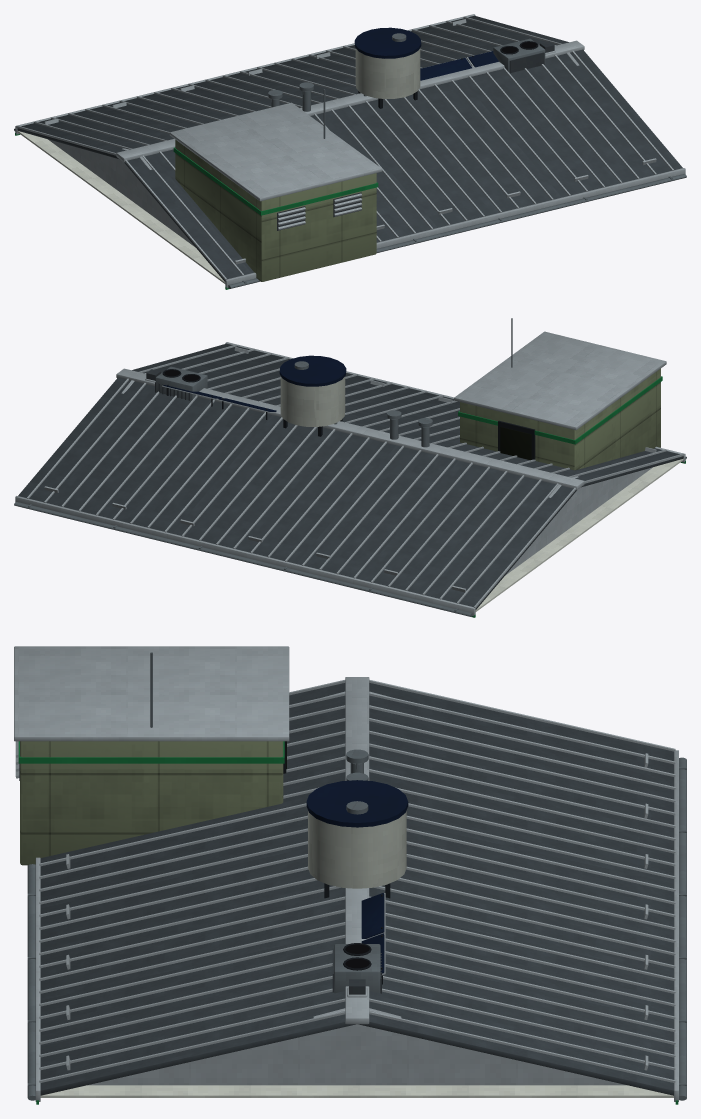
The model's file is fac_living_roof.glb.
3 renders of one model, top to bottom at view 1: azimuth 30°, elevation 25°; view 2: azimuth 150°, elevation 25°; view 3: azimuth 270°, elevation 25°, orthographic. The views are drawn at different scales.
Parts seen in each view (by area): view 1: FAC_LIVING_ROOF; view 2: FAC_LIVING_ROOF; view 3: FAC_LIVING_ROOF.
Part boxes in pixels (box(x1,y1,x2,y2)): FAC_LIVING_ROOF: box(14, 14, 686, 289); FAC_LIVING_ROOF: box(14, 318, 686, 617); FAC_LIVING_ROOF: box(14, 646, 686, 1104).
Bounding box in the file's own units: 14.74 × 4.26 × 12.27.
13 materials, 13 textured.
